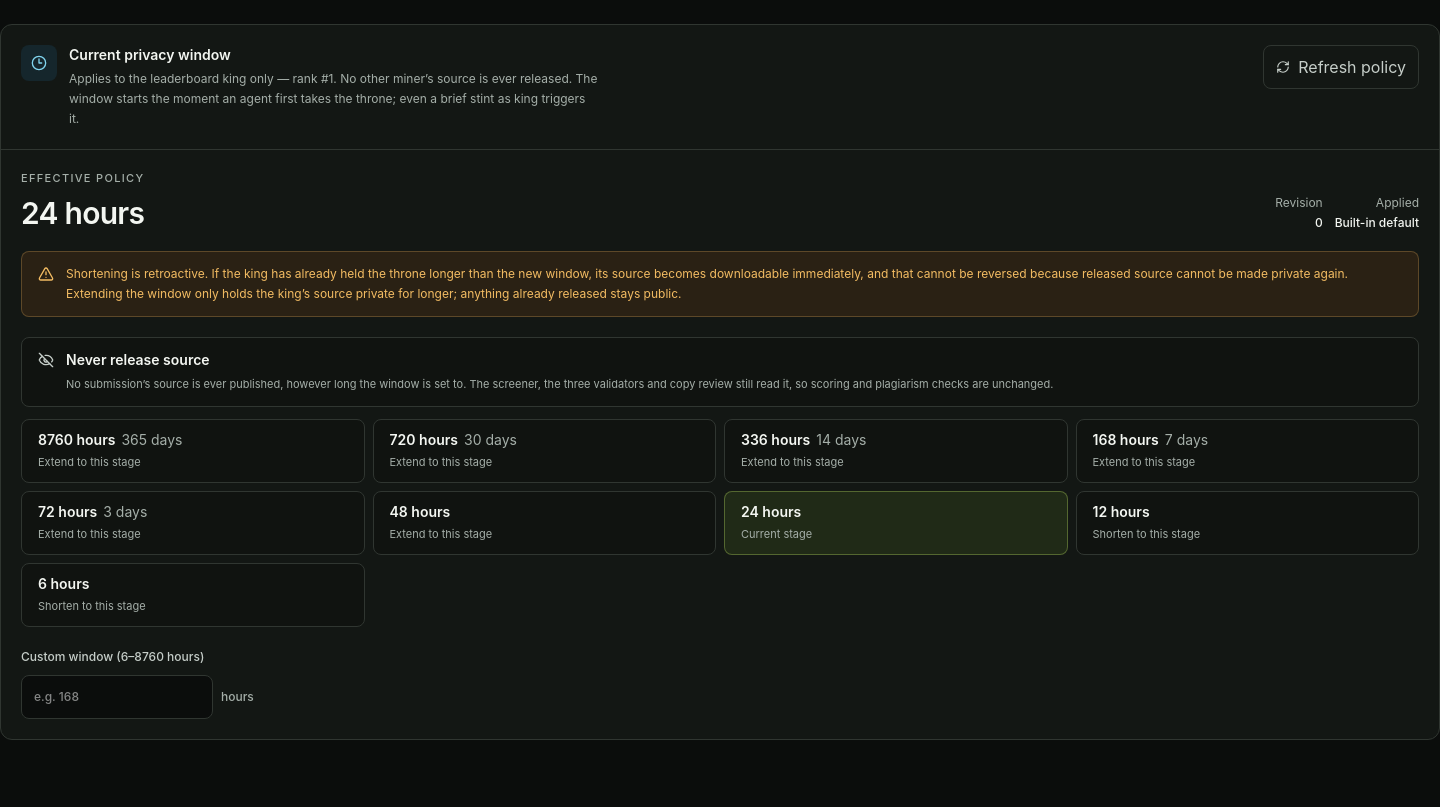
it: ArtifactReleaseControlPanel › offers month-scale presets and flags anything past the agreed default
Expected: the button "720 hours30 days Extend to this stage" is shown, [372,418,716,482]
Expected: the button "168 hours7 days Extend to this stage" is shown, [1076,418,1419,482]
48 is the agreed default, so extending to it carries no extra note...
Click the button "48 hours Extend to this stage" at (429, 512), box [372,490,716,554]
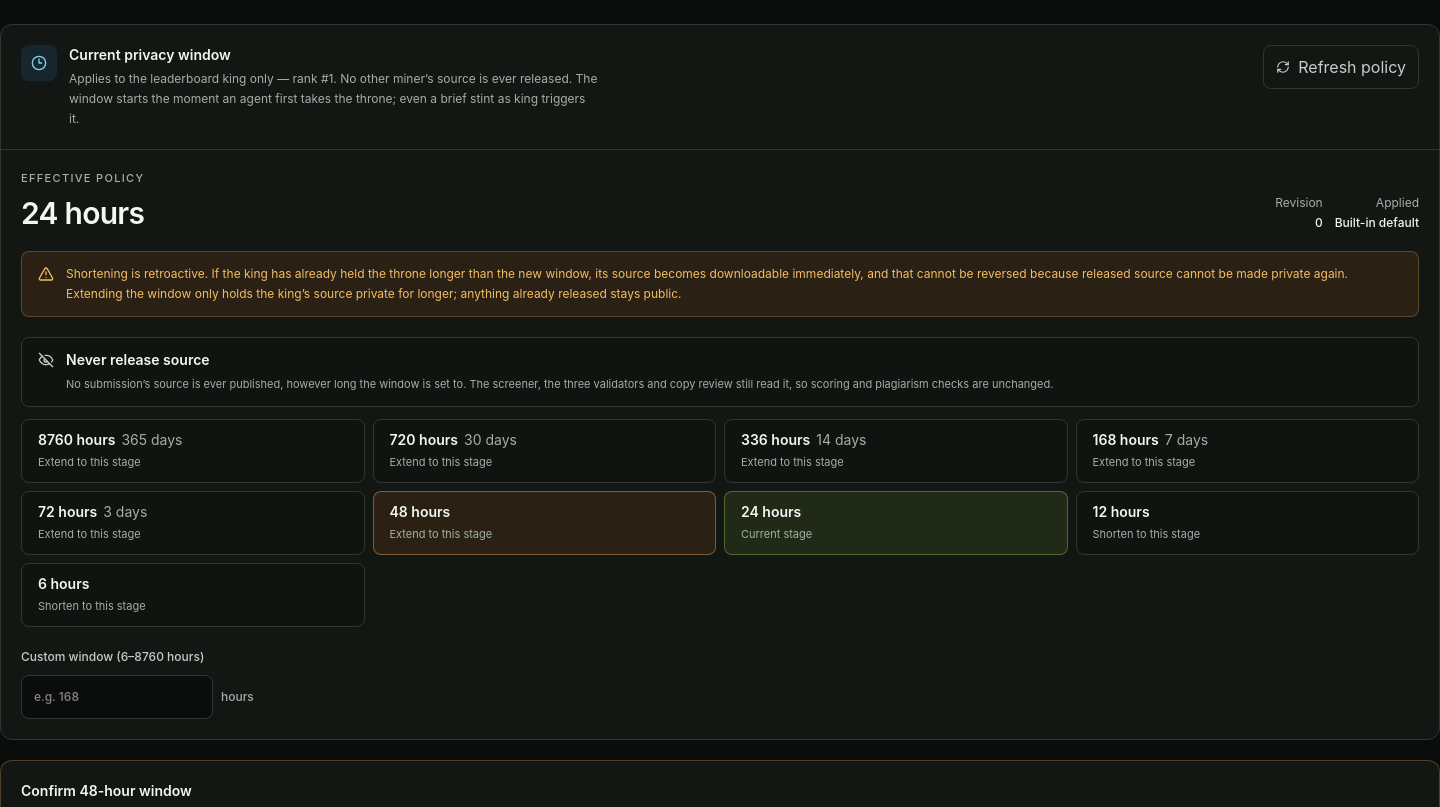
Expected: the text "window SN118 agreed on" is not shown
...but anything beyond it does.
Click the button "720 hours30 days Extend to this stage" at (437, 440), box [372,418,716,482]
(page scrolled)
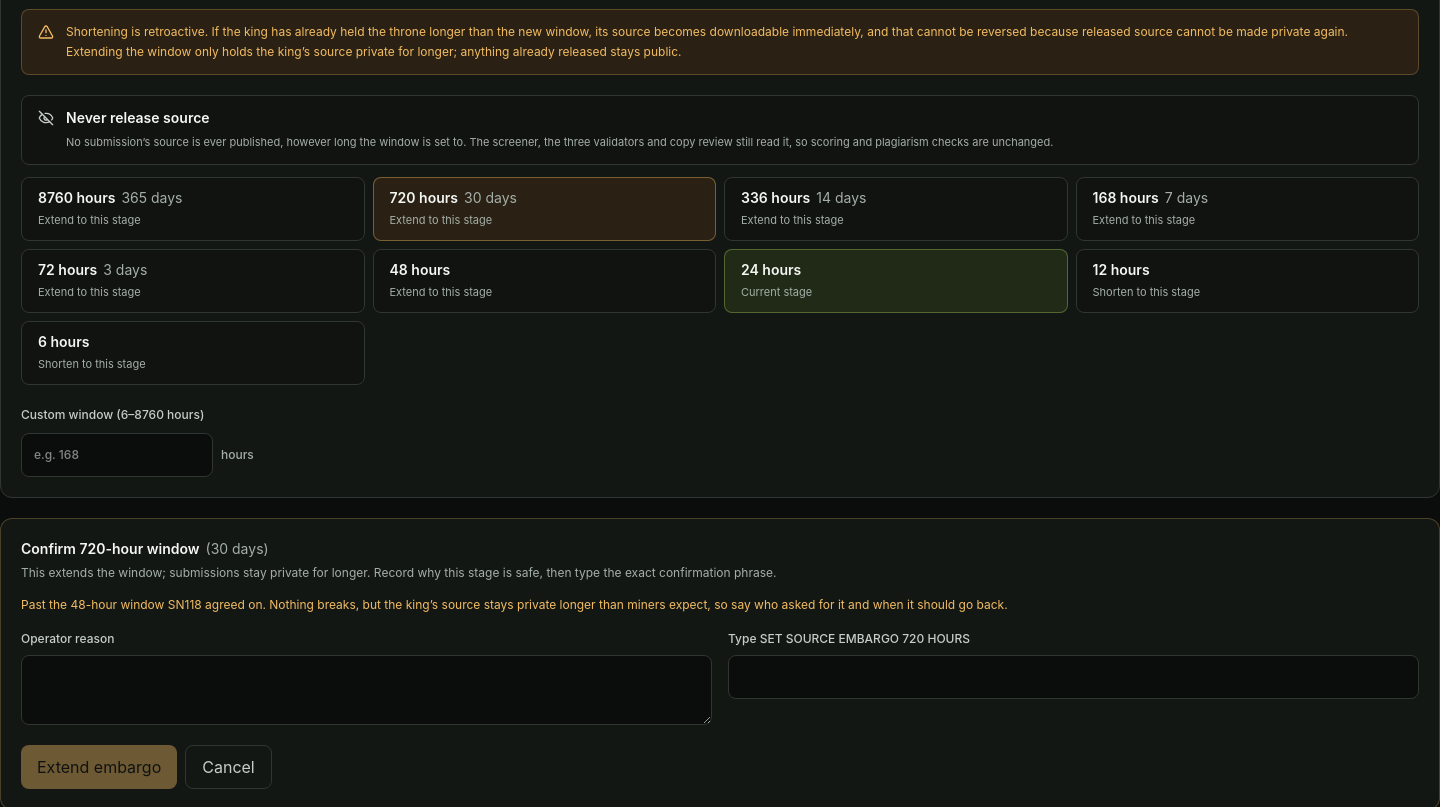
Expected: the text "window SN118 agreed on" is shown, [86,596,1008,612]
